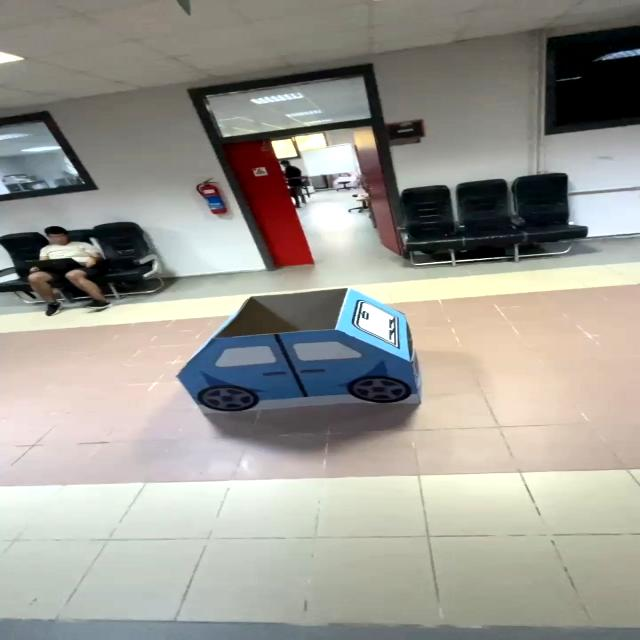blue_car: (135, 276, 457, 434)
